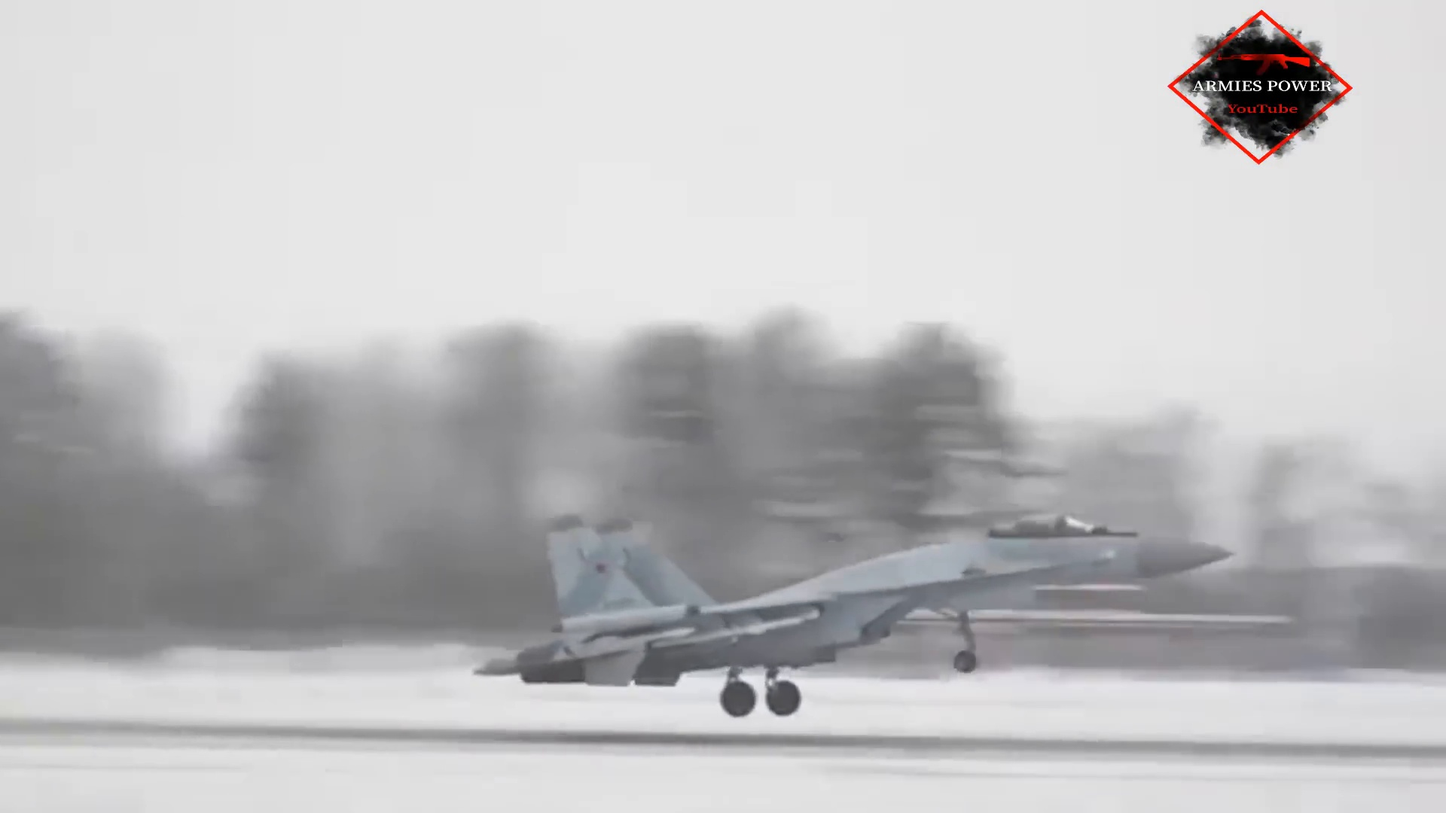Su35: (473, 512, 1237, 717)
